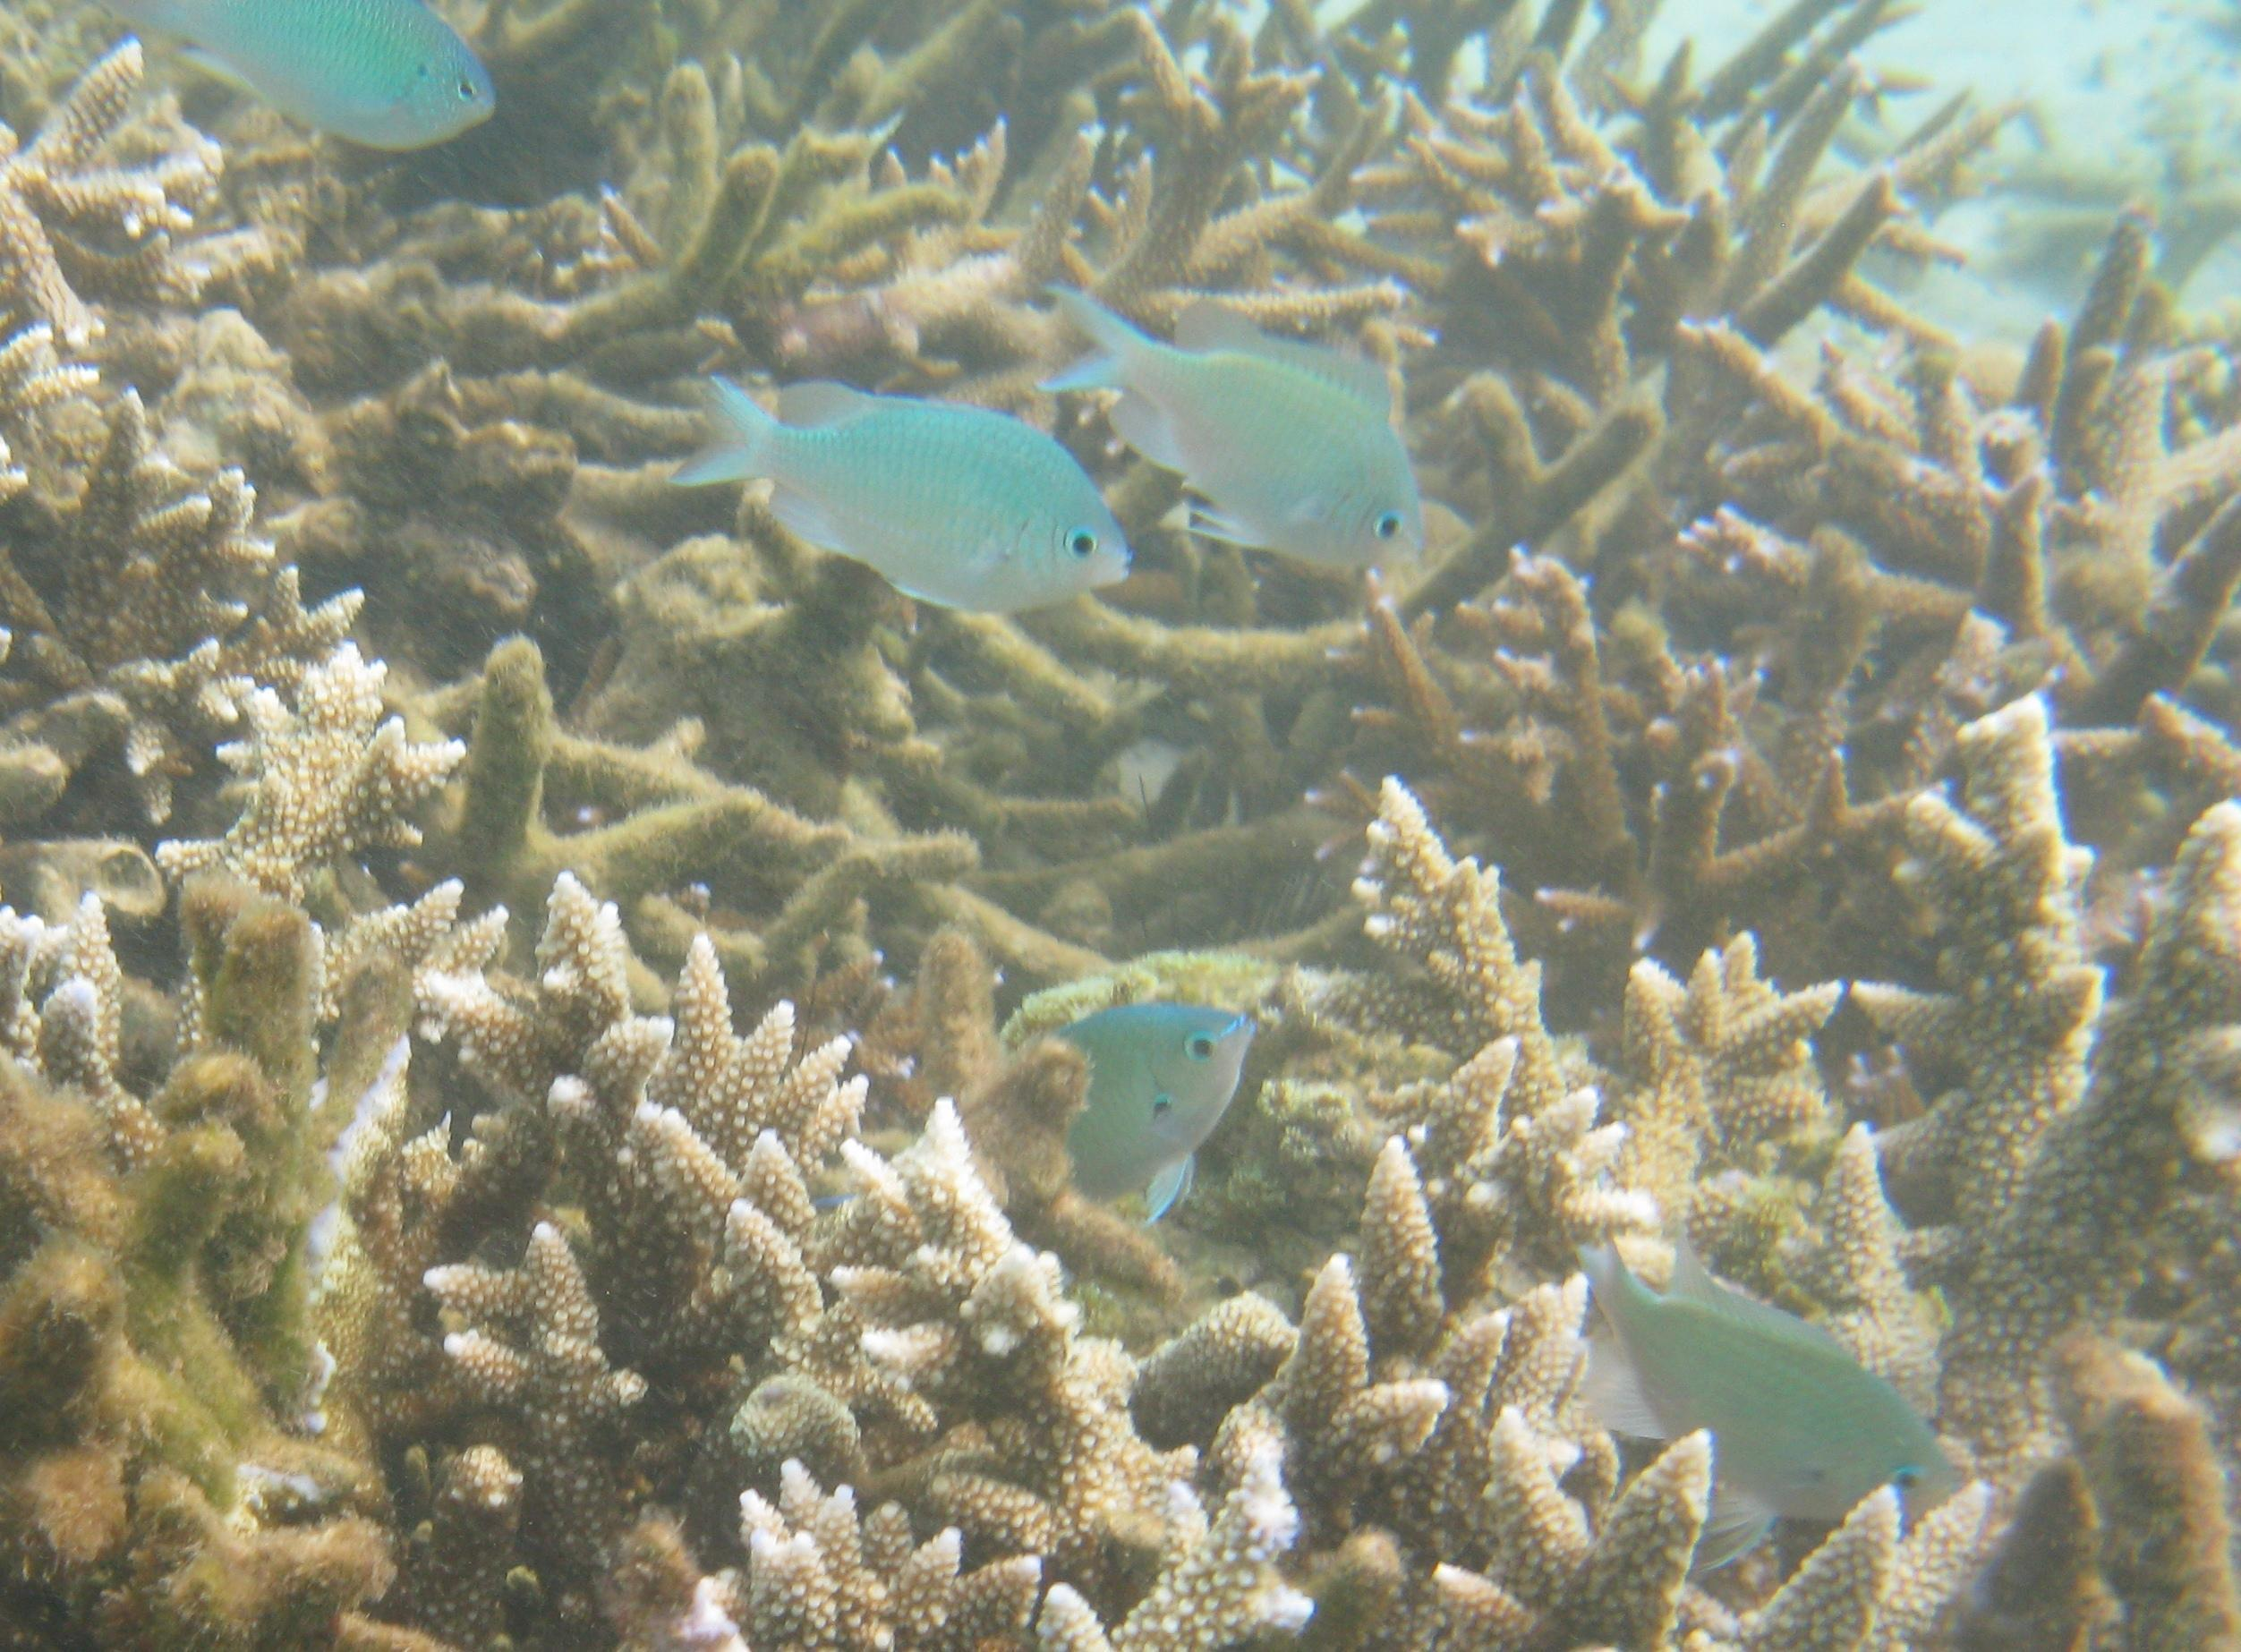Chromis viridis: (1531, 1160, 2053, 1588), (595, 287, 1131, 661), (1023, 254, 1519, 609), (934, 892, 1308, 1233), (73, 0, 555, 212)
